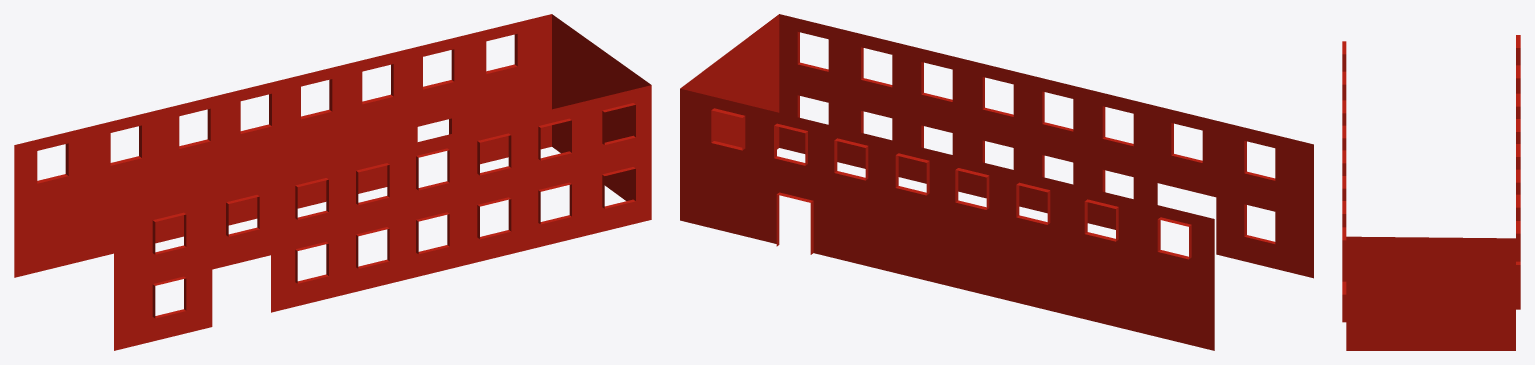
The model's file is parede.obj.
3 renders of one model, left to right at view 1: azimuth 30°, elevation 25°; view 2: azimuth 150°, elevation 25°; view 3: azimuth 270°, elevation 25°, orthographic. The views are drawn at different scales.
Parts seen in each view (by area): view 1: parede_Plane.018; view 2: parede_Plane.018; view 3: parede_Plane.018.
Boxes of the visible parts, x1,y1,x2,y2 form: parede_Plane.018: (14, 14, 651, 350); parede_Plane.018: (680, 14, 1313, 350); parede_Plane.018: (1342, 35, 1520, 350).
Bounding box in the file's own units: 34.35 × 8.22 × 11.64.
